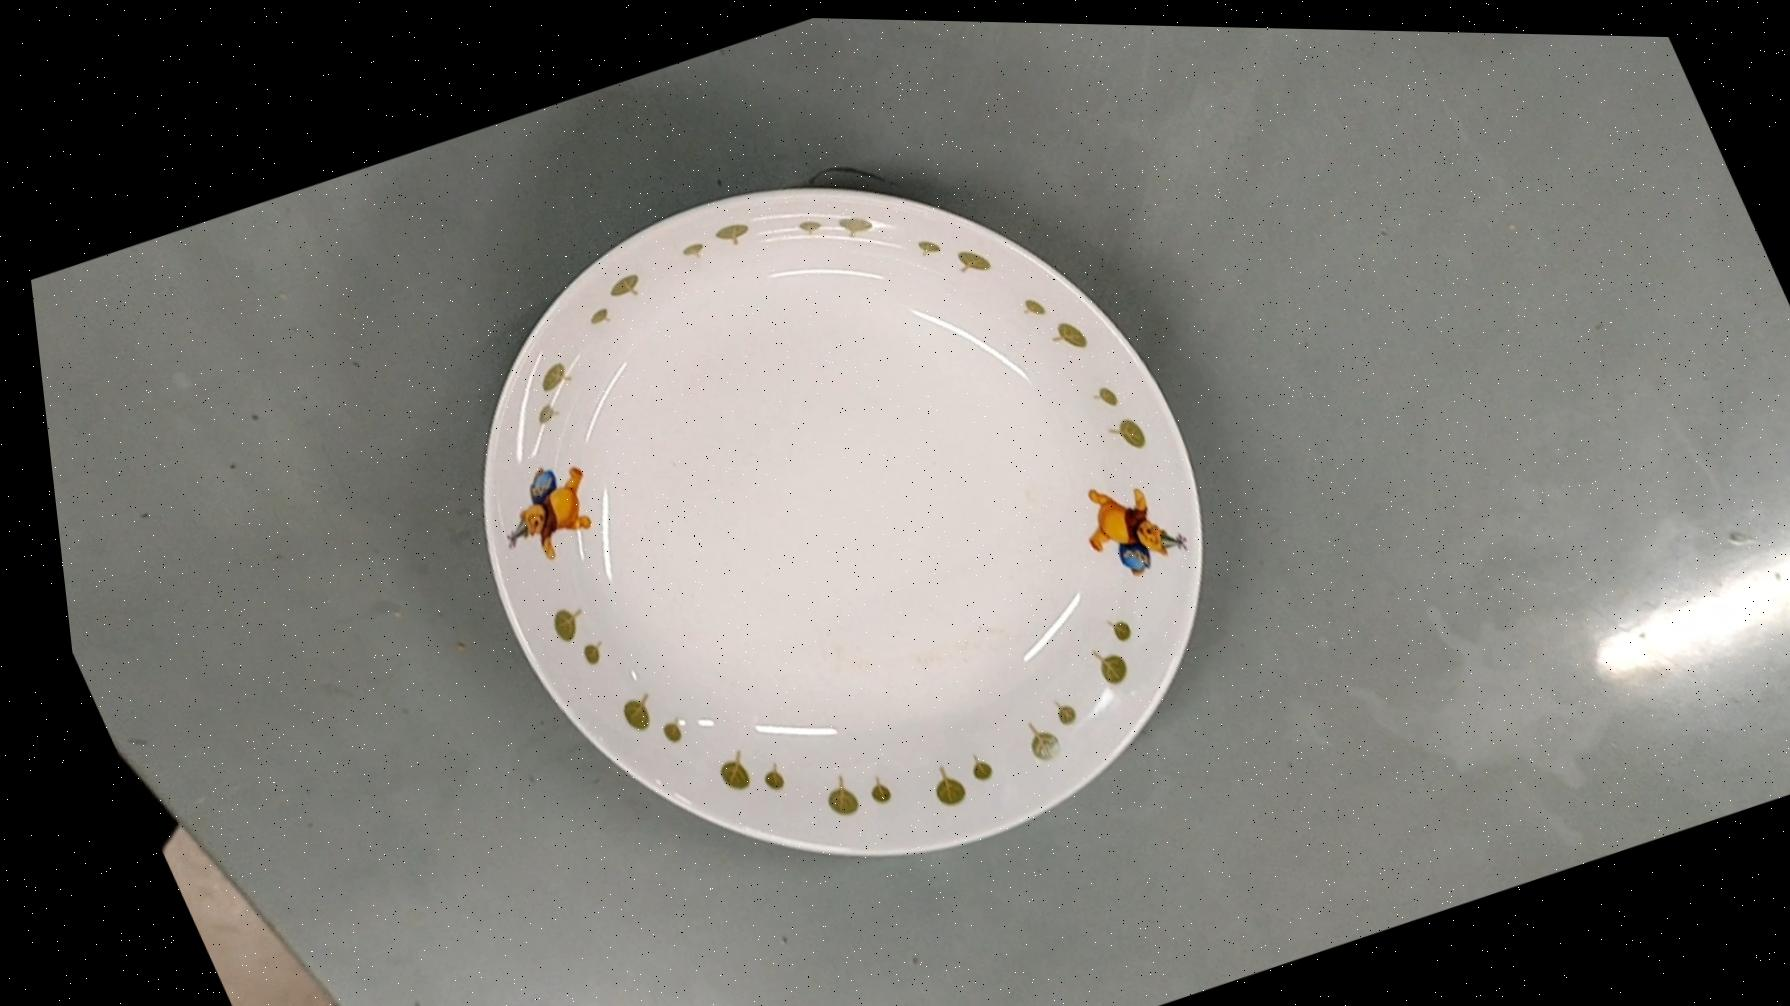plate: (348, 80, 1318, 956)
